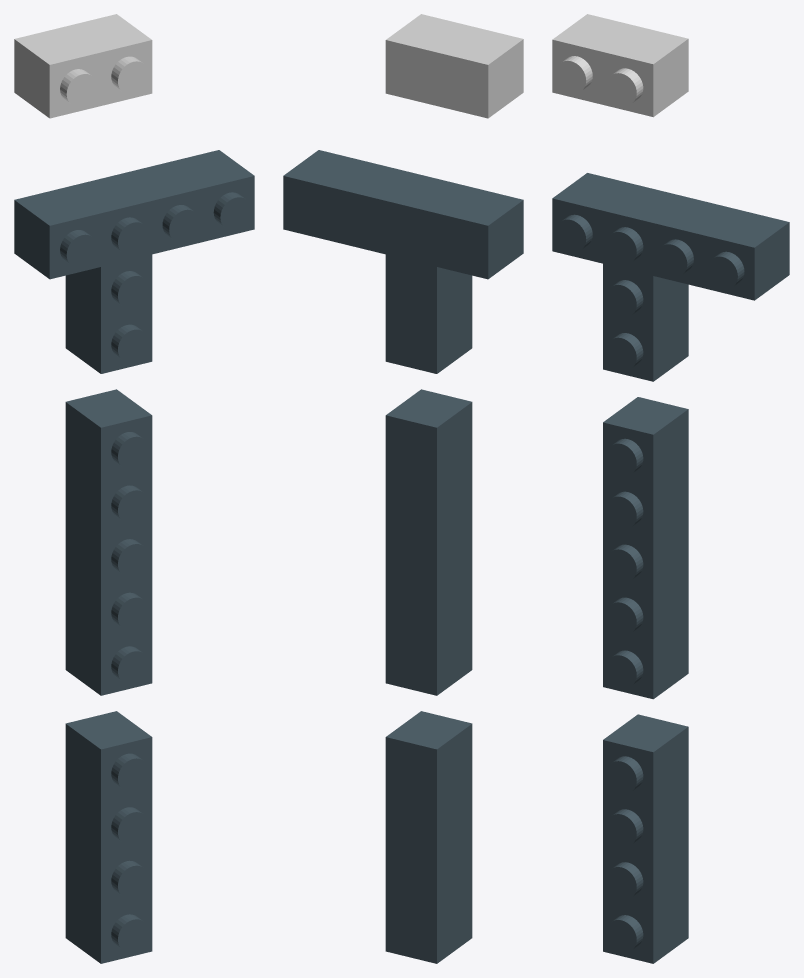
File: current.glb
3 views of the same model, side by side, from view 1: azimuth 30°, elevation 25°; view 2: azimuth 150°, elevation 25°; view 3: azimuth 330°, elevation 25° (orthographic).
Parts seen in each view (by area): view 1: world; view 2: world; view 3: world.
Part boxes in pixels (x1,y1,x2,y2): world: (14, 14, 254, 963); world: (283, 14, 523, 963); world: (552, 14, 789, 963).
Bounding box in the file's own units: 32 × 136 × 11.4.
